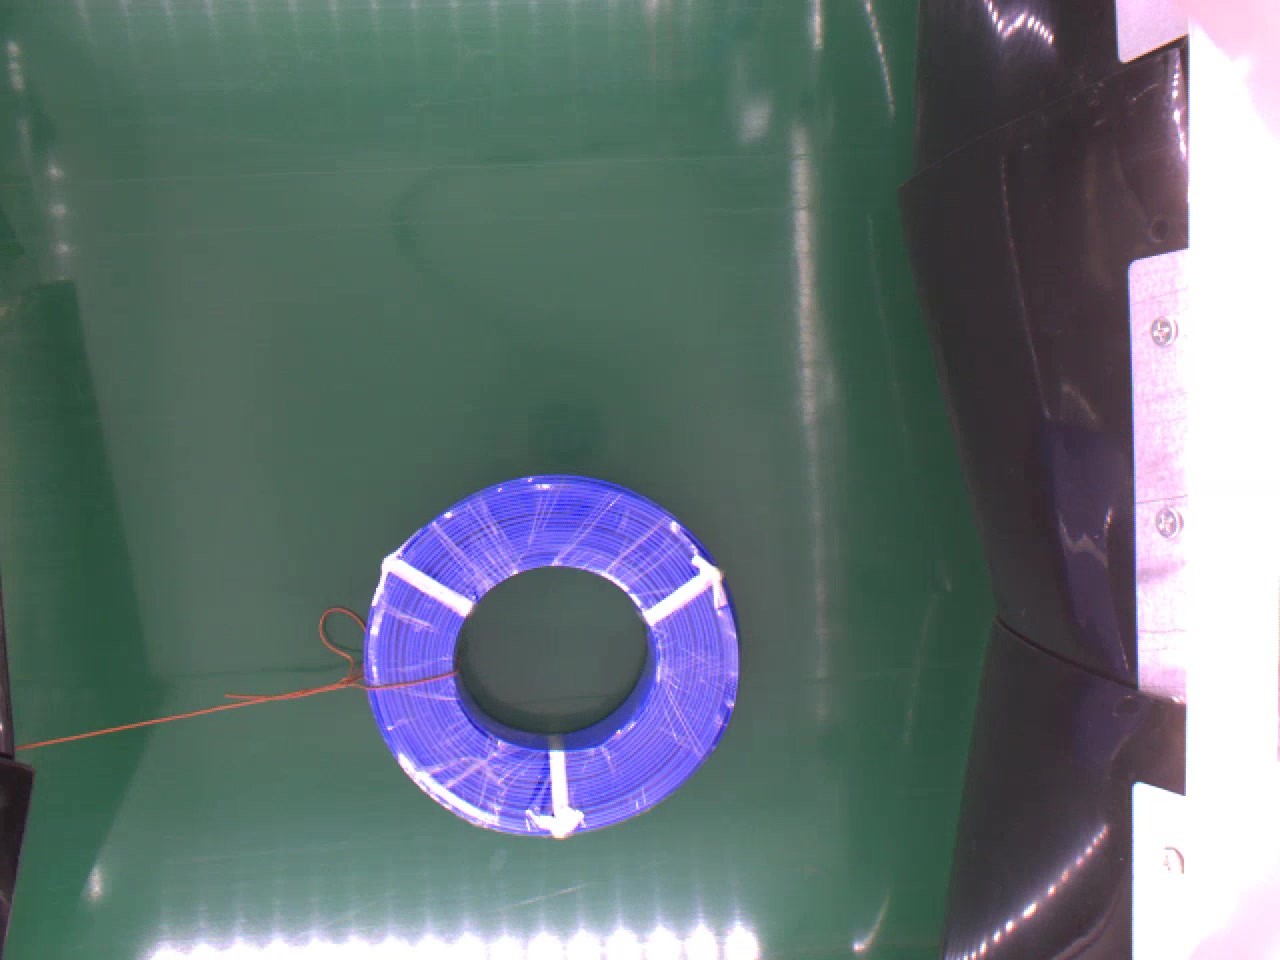blue: (361, 465, 740, 839)
